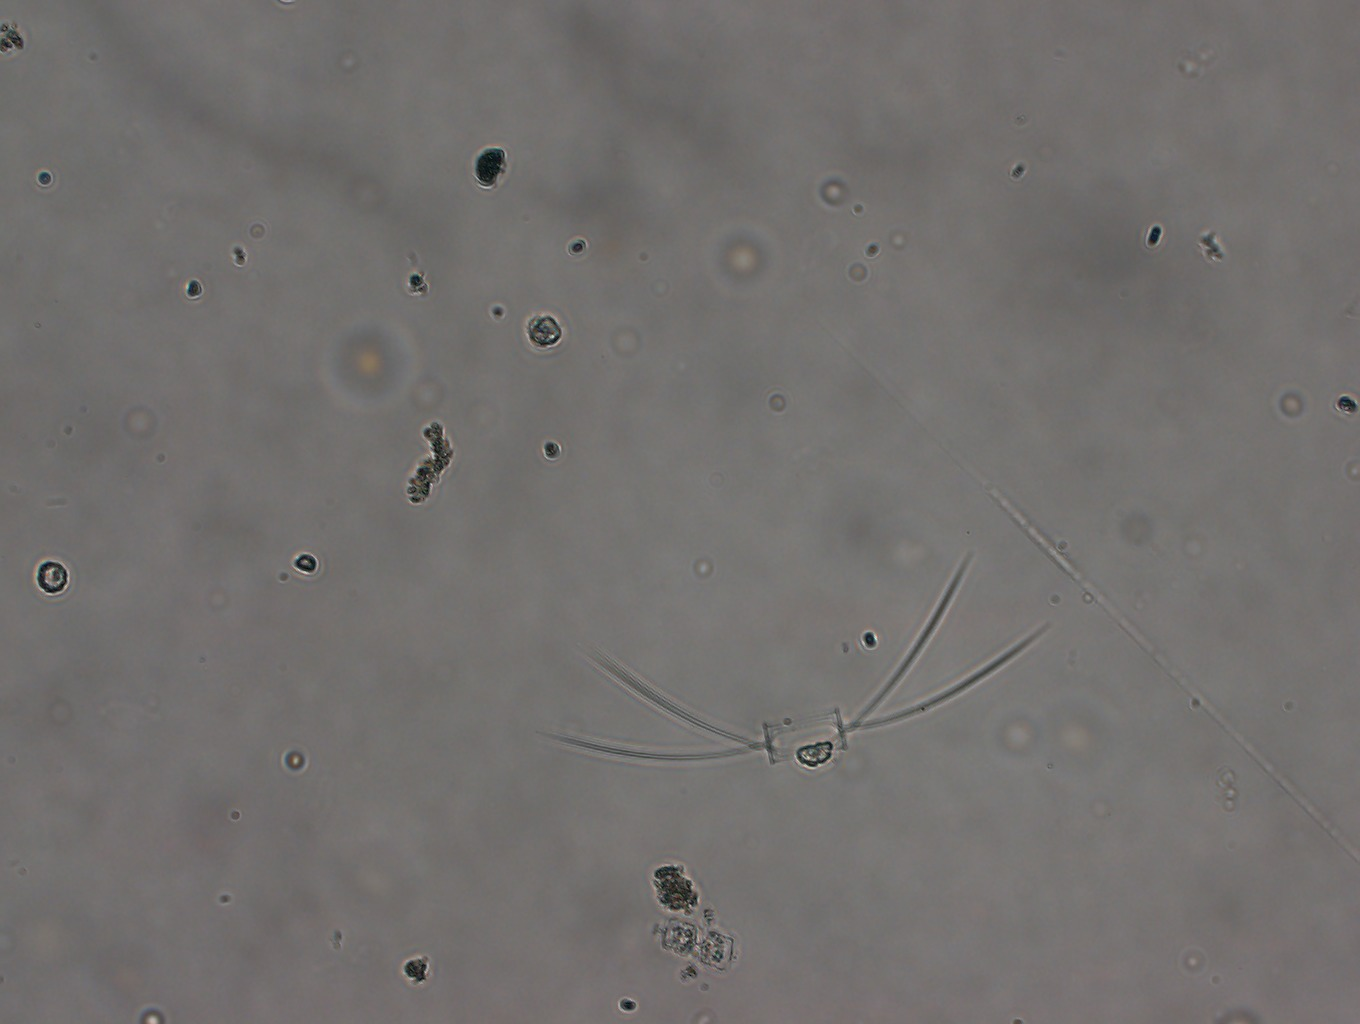chaetoceros: (528, 537, 1061, 781)
